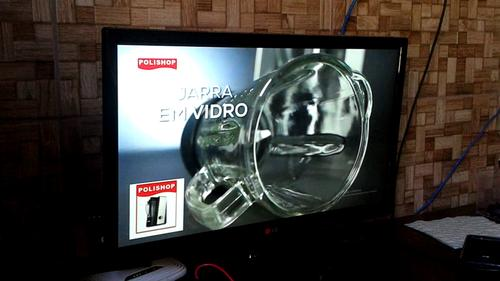Polishop #1: (129, 177, 184, 239)
